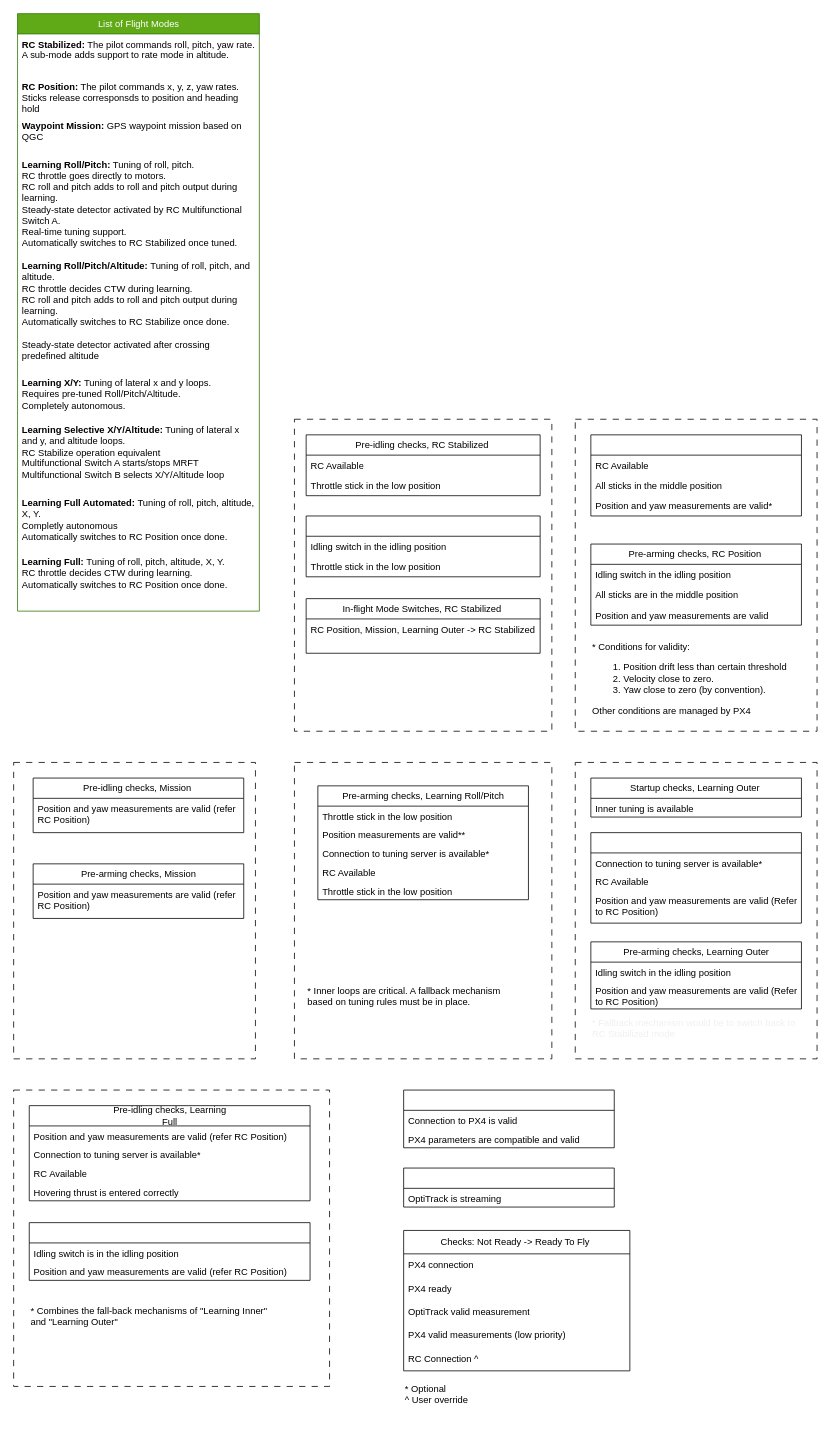
Some shapes in this 831 by 1455 pixel diagram are drawn without their labels. Here are the shapes that lost their labels. From the top down, the box of each, then its label:
(590, 434, 801, 516): Pre-idling checks, RC Position
(305, 515, 540, 577): Pre-arming checks, RC Stabilized
(590, 832, 801, 923): Pre-idling checks, Learning Outer
(403, 1089, 614, 1148): Startup checks, Common Set
(403, 1167, 614, 1207): Startup checks, OptiTrack
(28, 1222, 310, 1280): Pre-arming checks, Learning Full
